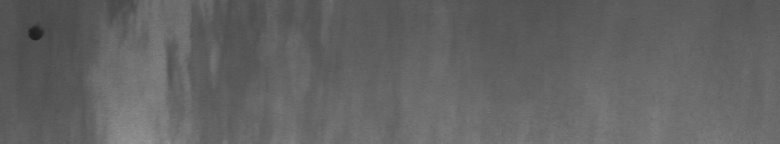fi: (24, 20, 48, 48)
